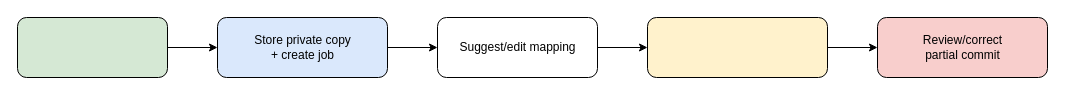
This 1065x95 diagram has some shape labels left out. The centre of each missing label's shape, as x and y in pixels:
"Parse all rows validate + duplicates" goes at [737,47].
"Upload CSV/XLSX" goes at [92,47].
